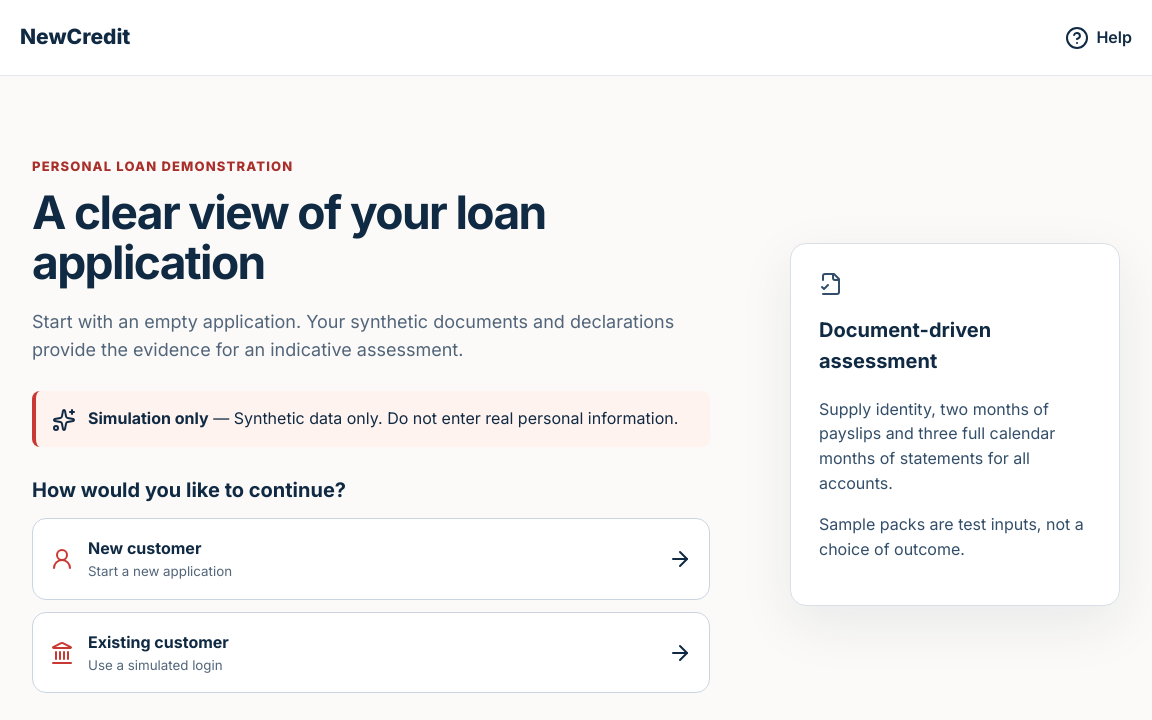
Scenario: starts a new application without selecting a scenario or applicant
This screenshot has width=1152, height=720.
Click the button "New customer Start a new application" at (145, 548), box [32,518,710,600]
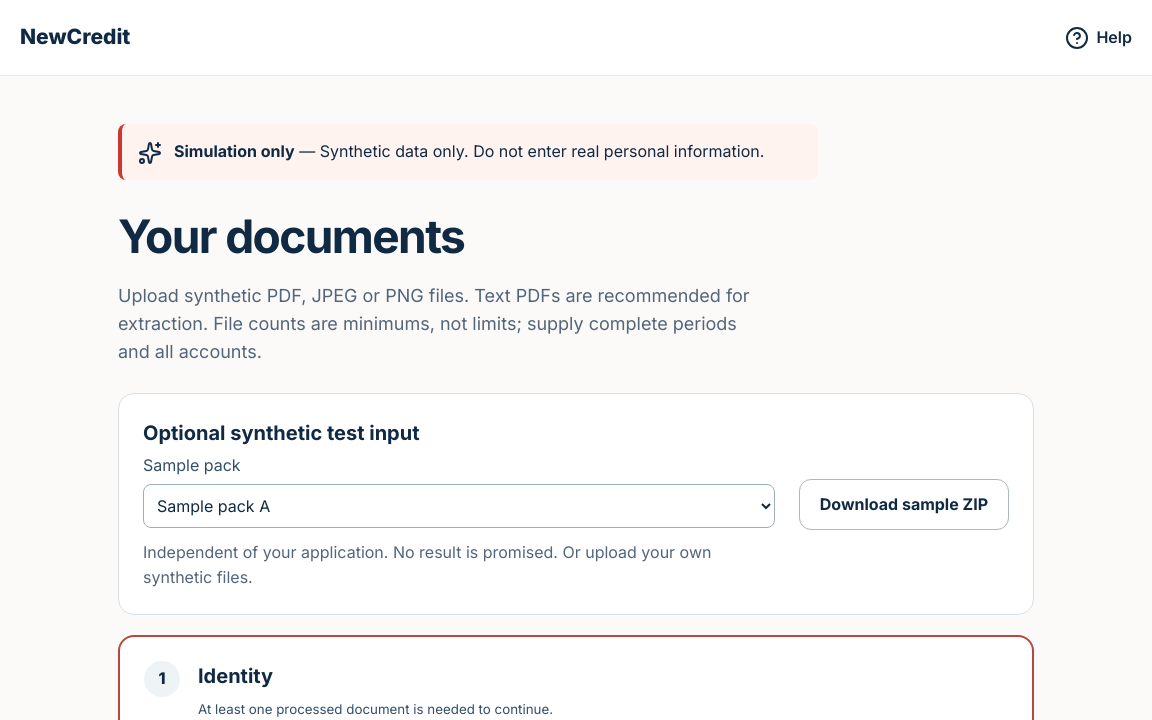
Expected: the heading "Your documents" is shown, [118,208,464,264]
